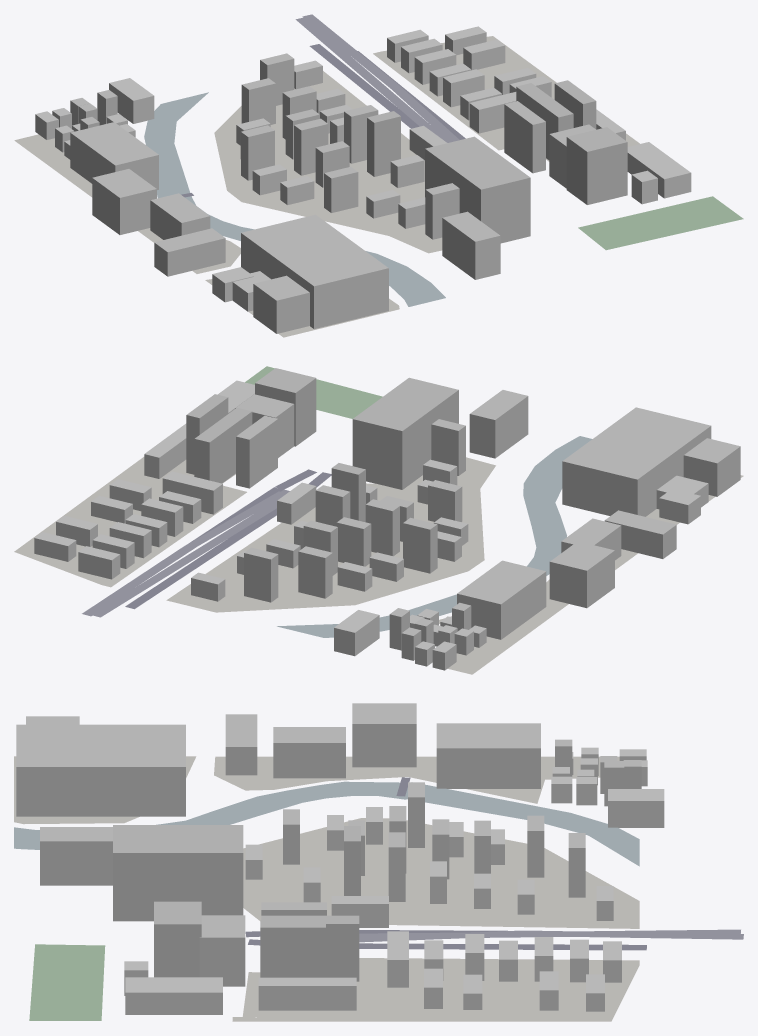
File: 108_100_mid.glb
3 renders of one model, top to bottom at view 1: azimuth 30°, elevation 25°; view 2: azimuth 150°, elevation 25°; view 3: azimuth 270°, elevation 25°, orthographic. The views are drawn at different scales.
Size of the model in its own units: 526 by 60.22 by 584.
